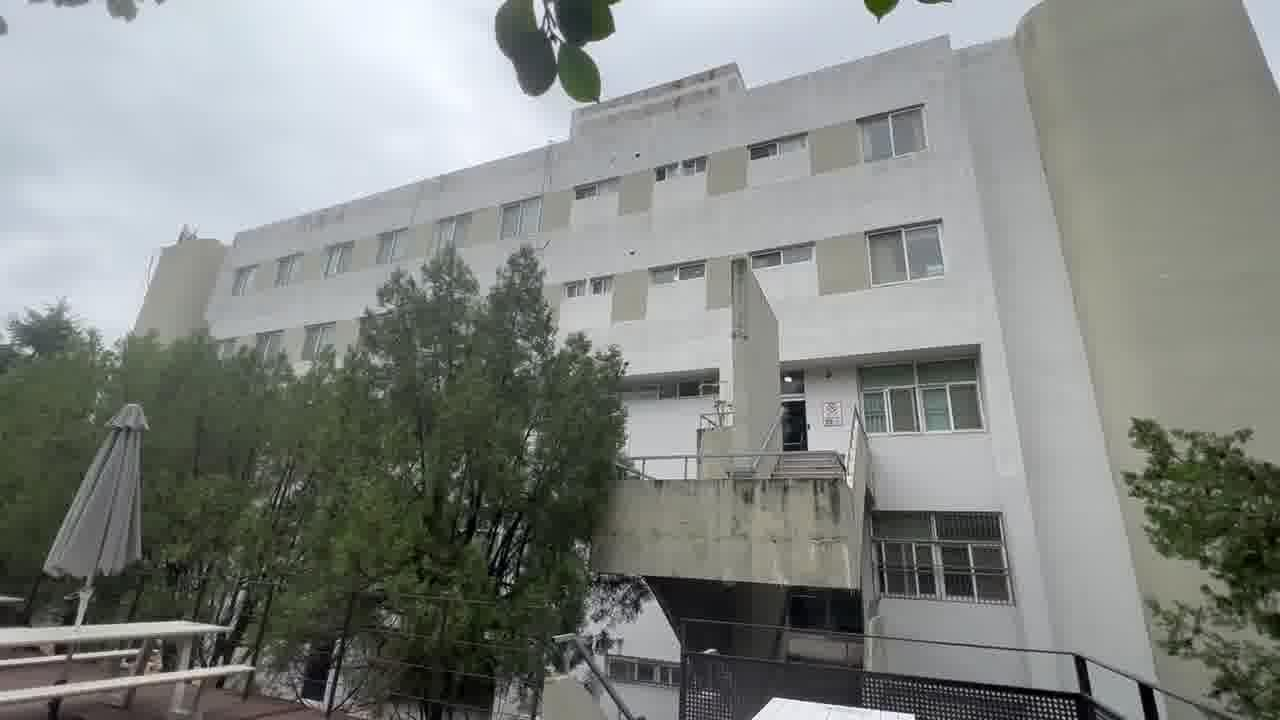building: (624, 64, 1107, 588)
